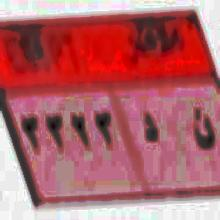2: (71, 109, 91, 151)
3: (94, 103, 117, 150), (23, 107, 42, 157), (47, 108, 66, 156)
daal: (143, 105, 157, 150)
noon: (192, 102, 216, 152)
